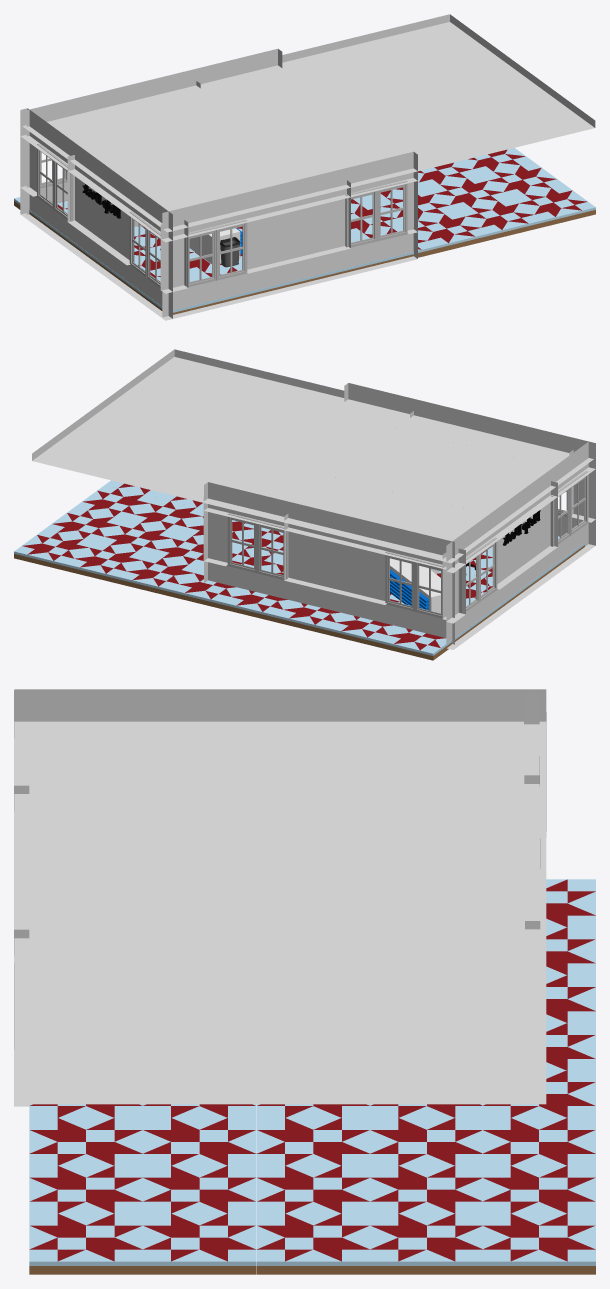
File: reception.glb
3 renders of one model, top to bottom at view 1: azimuth 30°, elevation 25°; view 2: azimuth 150°, elevation 25°; view 3: azimuth 270°, elevation 25°, orthographic. The views are drawn at different scales.
Visible parts, largest first — view 1: Plane.002, Plane.008, Plane.007, Plane.009, Plane.014, Plane.001, Plane.003, Plane.004, Floor_Kitchen2.035, Floor_Kitchen2.030, Floor_Kitchen2.025, Box20179.003 (+20 smaller); view 2: Plane.002, Plane.013, Plane.014, Plane.012, Plane.001, Plane.003, Plane.004, Plane.009, Floor_Kitchen2.039, Floor_Kitchen2.029, Floor_Kitchen2.034, Box20179.005 (+22 smaller); view 3: Plane.002, Plane.004, Floor_Kitchen2.037, Floor_Kitchen2.036, Floor_Kitchen2.035, Floor_Kitchen2.038, Floor_Kitchen2.039, Floor_Kitchen2.031, Floor_Kitchen2.032, Floor_Kitchen2.030, Floor_Kitchen2.034, Floor_Kitchen2.026 (+14 smaller).
Part boxes in pixels (x1=…): Plane.002: x1=22, y1=14, x2=595, y2=232; Plane.008: x1=244, y1=180, x2=350, y2=273; Plane.007: x1=162, y1=228, x2=417, y2=318; Plane.009: x1=162, y1=151, x2=417, y2=240; Plane.014: x1=26, y1=48, x2=282, y2=136; Plane.001: x1=20, y1=185, x2=172, y2=320; Plane.003: x1=67, y1=155, x2=134, y2=265; Plane.004: x1=20, y1=108, x2=172, y2=242; Floor_Kitchen2.035: x1=512, y1=184, x2=595, y2=227; Floor_Kitchen2.030: x1=458, y1=198, x2=542, y2=240; Floor_Kitchen2.025: x1=418, y1=211, x2=488, y2=253; Box20179.003: x1=184, y1=219, x2=247, y2=286; Plane.002: x1=32, y1=349, x2=593, y2=563; Plane.013: x1=284, y1=513, x2=389, y2=604; Plane.014: x1=204, y1=482, x2=454, y2=569; Plane.012: x1=204, y1=557, x2=454, y2=644; Plane.001: x1=446, y1=516, x2=595, y2=649; Plane.003: x1=492, y1=481, x2=557, y2=589; Plane.004: x1=446, y1=441, x2=595, y2=573; Plane.009: x1=344, y1=383, x2=588, y2=447; Floor_Kitchen2.039: x1=14, y1=529, x2=96, y2=570; Floor_Kitchen2.029: x1=119, y1=555, x2=201, y2=596; Floor_Kitchen2.034: x1=66, y1=542, x2=149, y2=583; Box20179.005: x1=227, y1=513, x2=287, y2=579; Plane.002: x1=14, y1=707, x2=546, y2=1104; Plane.004: x1=14, y1=689, x2=546, y2=707; Floor_Kitchen2.037: x1=256, y1=1213, x2=370, y2=1274; Floor_Kitchen2.036: x1=142, y1=1213, x2=256, y2=1274; Floor_Kitchen2.035: x1=29, y1=1213, x2=142, y2=1274; Floor_Kitchen2.038: x1=370, y1=1213, x2=483, y2=1274; Floor_Kitchen2.039: x1=482, y1=1213, x2=595, y2=1274; Floor_Kitchen2.031: x1=142, y1=1165, x2=256, y2=1213; Floor_Kitchen2.032: x1=256, y1=1165, x2=370, y2=1213; Floor_Kitchen2.030: x1=29, y1=1165, x2=142, y2=1213; Floor_Kitchen2.034: x1=482, y1=1165, x2=595, y2=1213; Floor_Kitchen2.026: x1=142, y1=1117, x2=256, y2=1165.
Size of the model in its own units: 32.29 by 7.61 by 20.44.
Materials: 22 (1 with a texture image).
